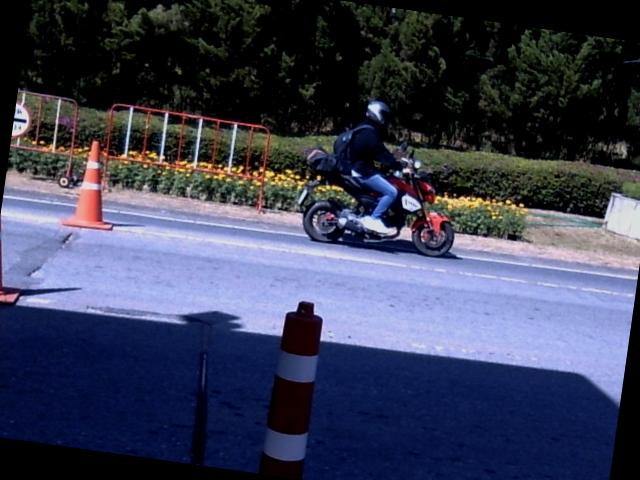helmet: (364, 96, 394, 127)
motor: (298, 148, 453, 255)
person: (341, 100, 403, 233)
